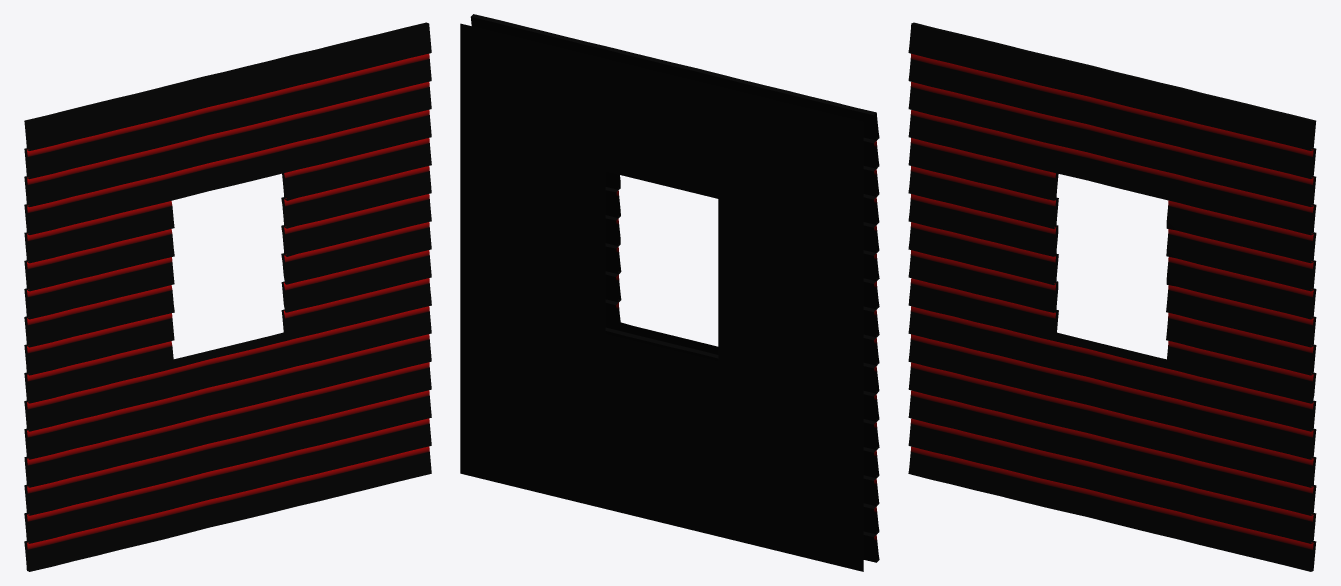
Rendered from SM_House_ExtWall_Window_C3.fbx.
3 renders of one model, left to right at view 1: azimuth 30°, elevation 25°; view 2: azimuth 150°, elevation 25°; view 3: azimuth 330°, elevation 25°, orthographic.
Visible parts, largest first — view 1: SM_House_ExtWall_Window_C3; view 2: SM_House_ExtWall_Window_C3; view 3: SM_House_ExtWall_Window_C3.
Boxes of the visible parts, box(x1,y1,x2,y2) form: SM_House_ExtWall_Window_C3: box(24, 22, 431, 571); SM_House_ExtWall_Window_C3: box(460, 14, 879, 571); SM_House_ExtWall_Window_C3: box(908, 22, 1316, 571).
Size of the model in its own units: 300 by 20.38 by 321.
